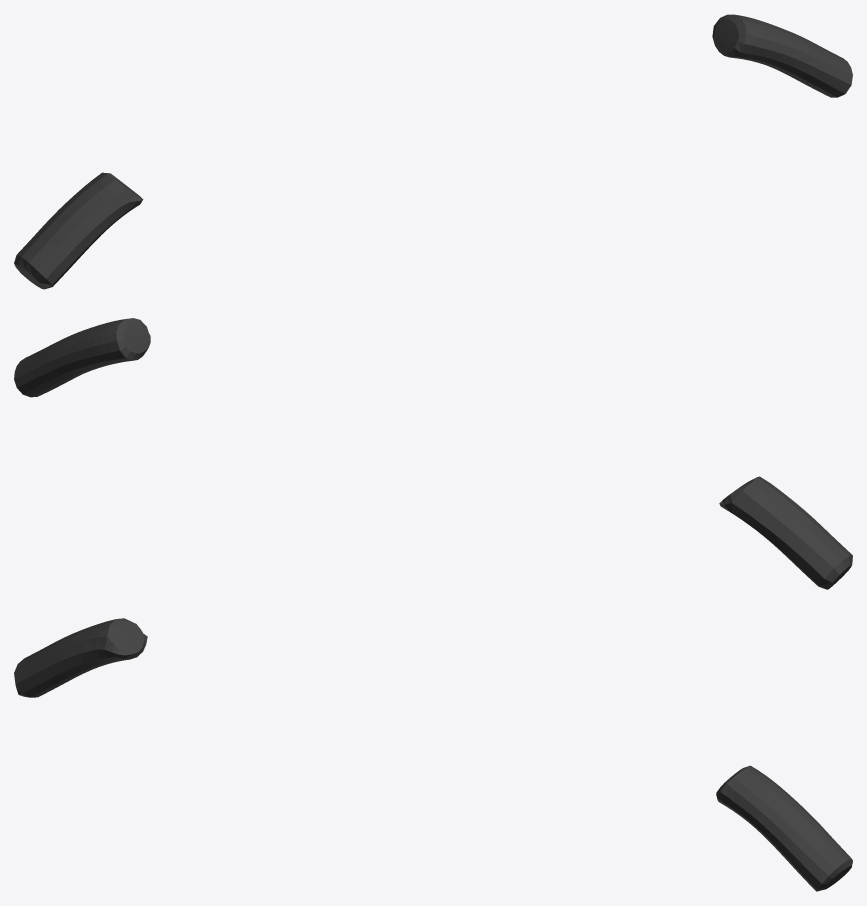
3 renders of one model, top to bottom at view 1: azimuth 30°, elevation 25°; view 2: azimuth 150°, elevation 25°; view 3: azimuth 330°, elevation 25°, orthographic.
Parts seen in each view (by area): view 1: CN9_low_CN9_low; view 2: CN9_low_CN9_low; view 3: CN9_low_CN9_low.
Boxes of the visible parts, <box> form: CN9_low_CN9_low: <box>14,14,852,289</box>; CN9_low_CN9_low: <box>14,318,852,589</box>; CN9_low_CN9_low: <box>14,618,852,891</box>.
Size of the model in its own units: 19.86 by 2.2 by 1.31.
1 material, 1 textured.
